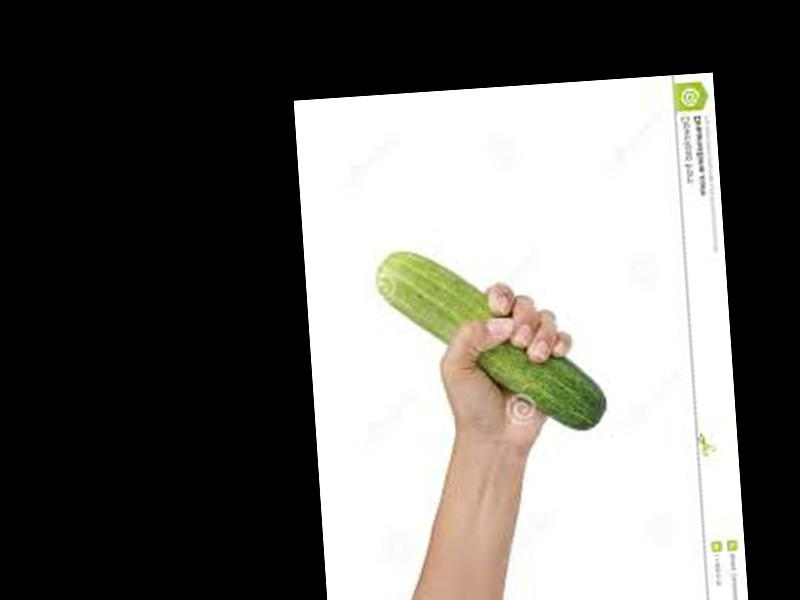Cucumber: (376, 239, 608, 448)
